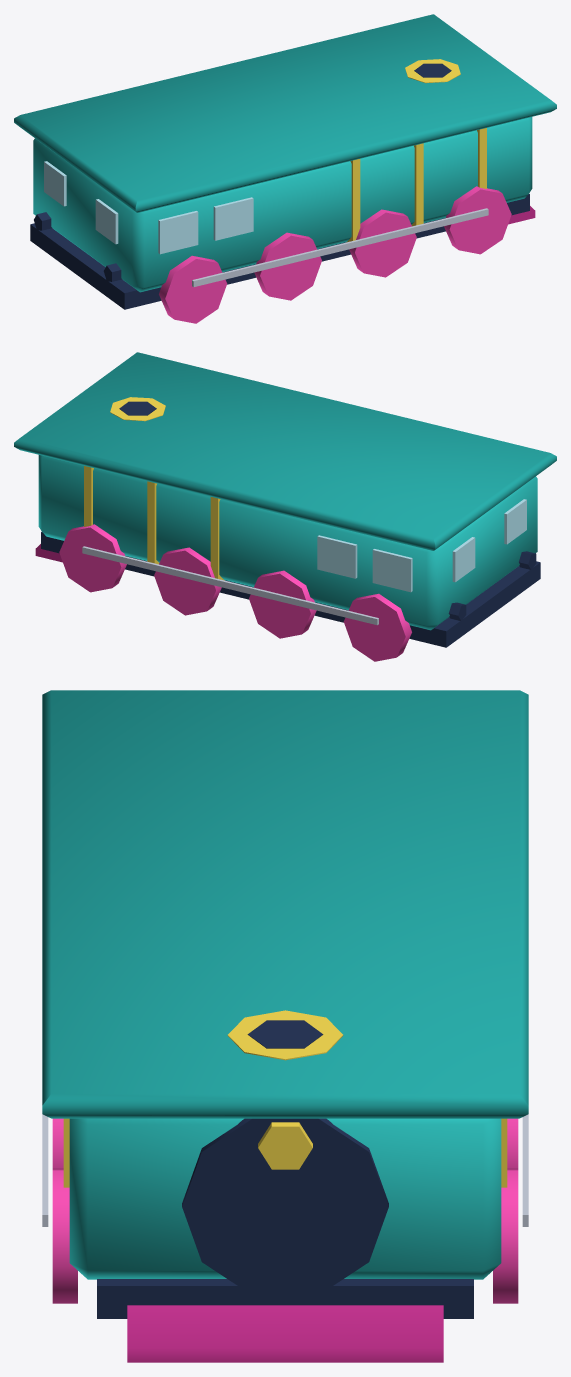
File: toy_train_lod1.glb
3 renders of one model, top to bottom at view 1: azimuth 30°, elevation 25°; view 2: azimuth 150°, elevation 25°; view 3: azimuth 270°, elevation 25°, orthographic. The views are drawn at different scales.
Parts seen in each view (by area): view 1: toy_train_LOD1; view 2: toy_train_LOD1; view 3: toy_train_LOD1.
Part boxes in pixels (x1=…): toy_train_LOD1: x1=14, y1=14, x2=556, y2=323; toy_train_LOD1: x1=14, y1=352, x2=556, y2=661; toy_train_LOD1: x1=42, y1=690, x2=528, y2=1362.
Size of the model in its own units: 16.06 by 5.03 by 8.
Materials: 1 (1 with a texture image).
